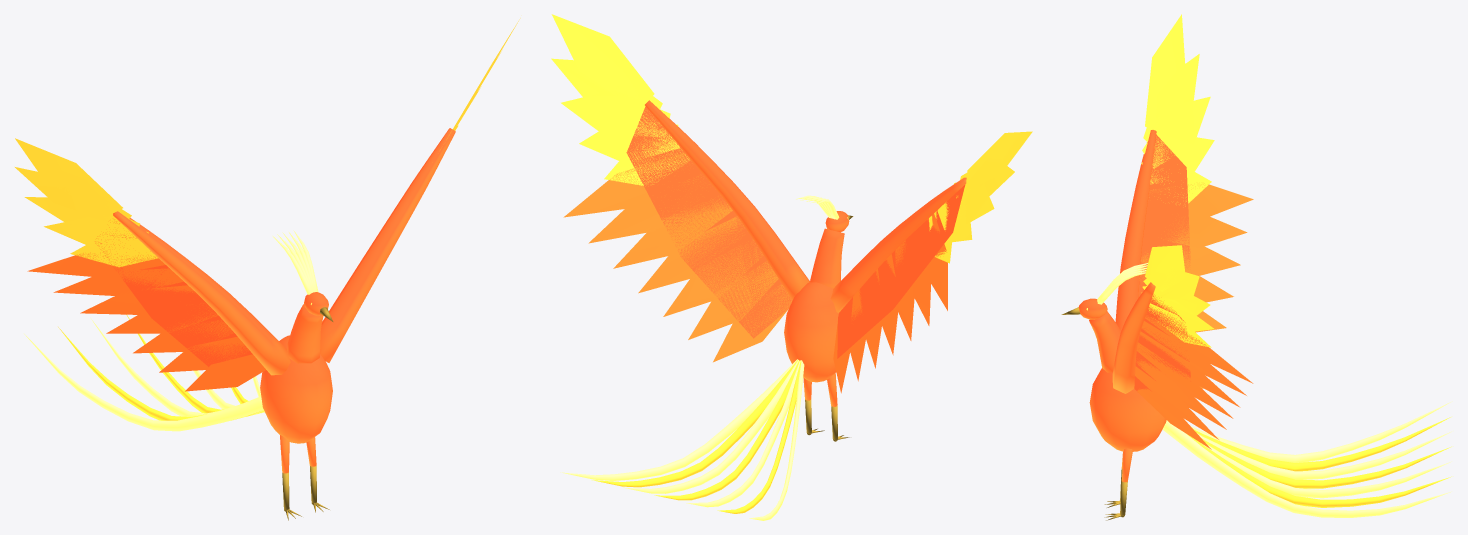
File: phoenix.glb
3 views of the same model, side by side, from view 1: azimuth 30°, elevation 25°; view 2: azimuth 150°, elevation 25°; view 3: azimuth 270°, elevation 25° (orthographic). The views are drawn at different scales.
Parts seen in each view (by area): view 1: body, tail, head, leg_R; view 2: body, tail, head; view 3: body, tail, head, leg_L.
Boxes of the visible parts, x1,y1,x2,y2 form: body: (15,18,520,443); tail: (24,314,264,431); head: (273,230,333,321); leg_R: (280,435,301,520); body: (551,14,1032,393); tail: (560,359,804,520); head: (796,195,853,232); body: (1089,14,1253,451); tail: (1162,401,1452,517); head: (1061,263,1147,319); leg_L: (1104,448,1132,520).
Bounding box in the file's own units: 5.15 × 3.97 × 3.7.
